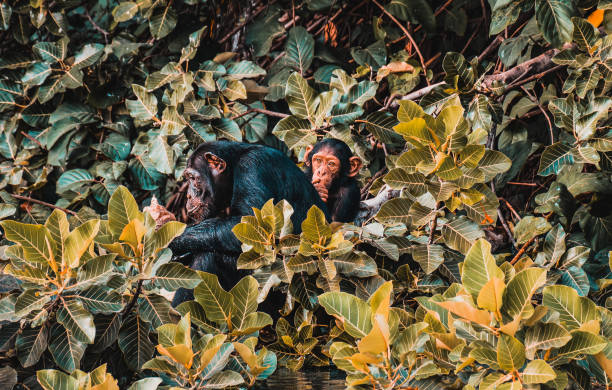chimpanzee: (303, 134, 363, 205)
